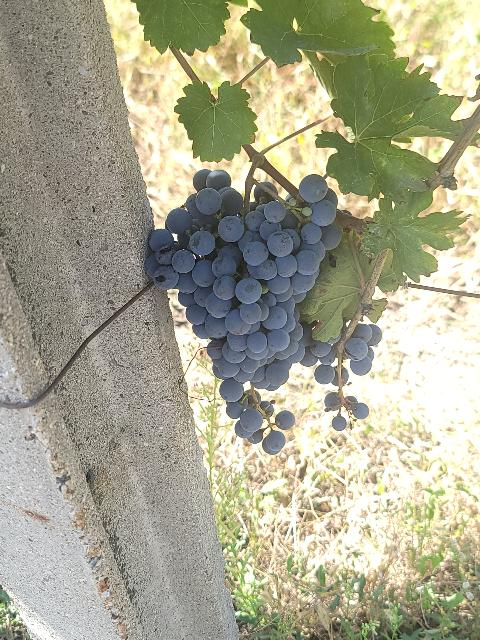grapes: (145, 170, 341, 454)
